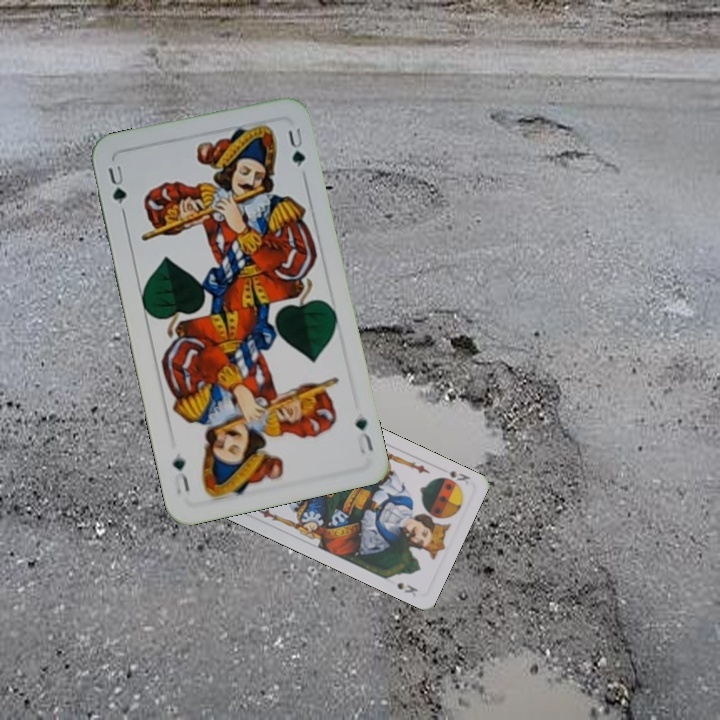GU: (103, 161, 130, 207), (351, 414, 376, 457)
SK: (435, 467, 473, 490)
